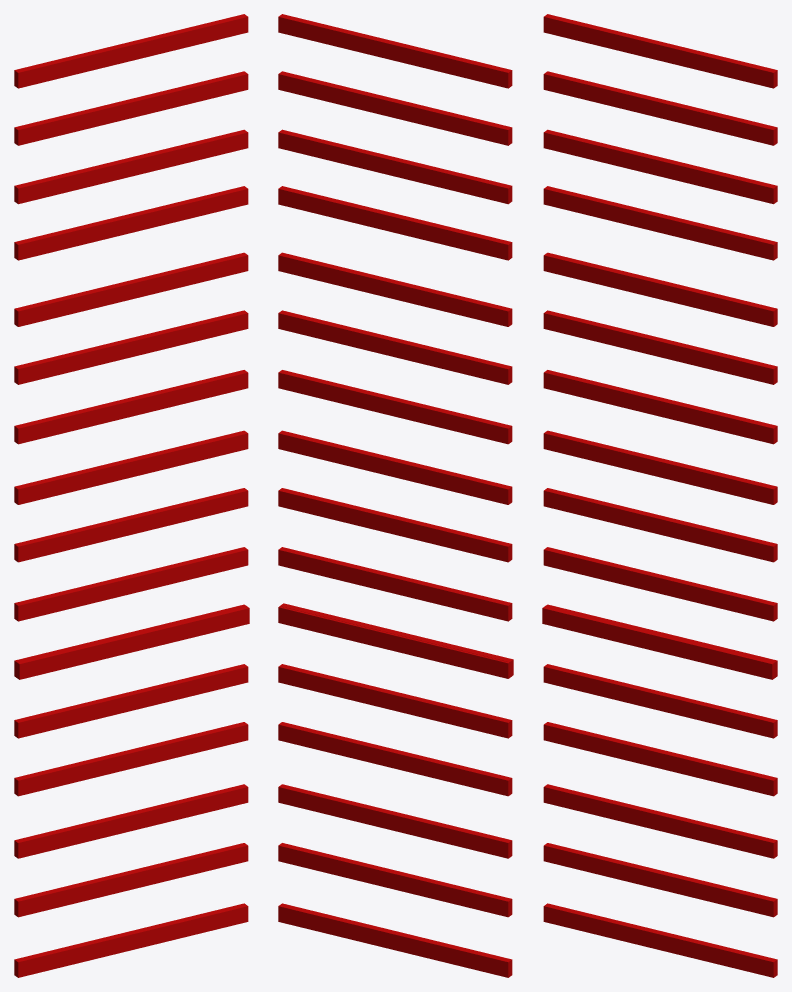
File: prop_descontamination_details.fbx
3 renders of one model, left to right at view 1: azimuth 30°, elevation 25°; view 2: azimuth 150°, elevation 25°; view 3: azimuth 330°, elevation 25°, orthographic.
Parts seen in each view (by area): view 1: Wall_descotamination; view 2: Wall_descotamination; view 3: Wall_descotamination.
Boxes of the visible parts, box(x1,y1,x2,y2) form: Wall_descotamination: box(14, 14, 249, 977); Wall_descotamination: box(278, 14, 513, 977); Wall_descotamination: box(542, 14, 777, 977).
Bounding box in the file's own units: 81.55 × 307 × 3.2.
